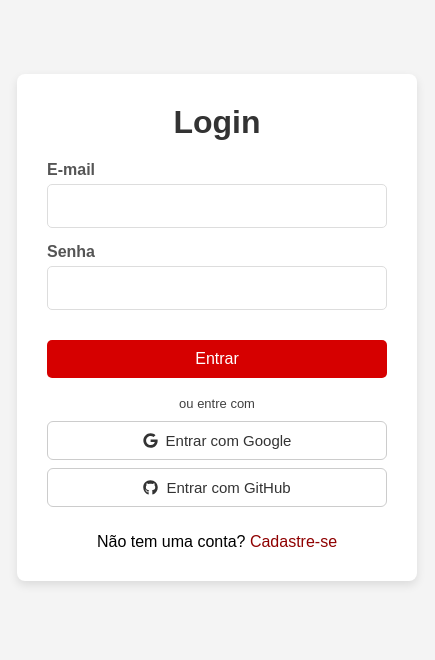
Login — e-mail já vinculado a outro método (AC-AUTH-05) › explica como vincular a conta, em português e sem código do Firebase
Click the button "Entrar com Google" at (217, 440), box [47,420,387,460]
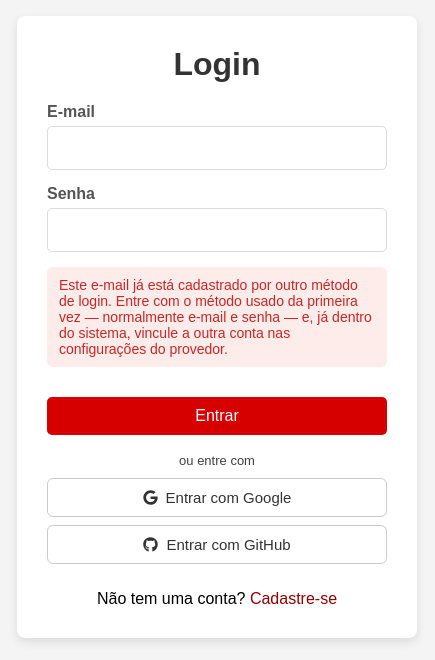
Check: the message does not show "auth/", box [47,267,387,367]
Check: the message shows "Este e-mail já está cadastrado por outro método", box [59,277,372,357]
